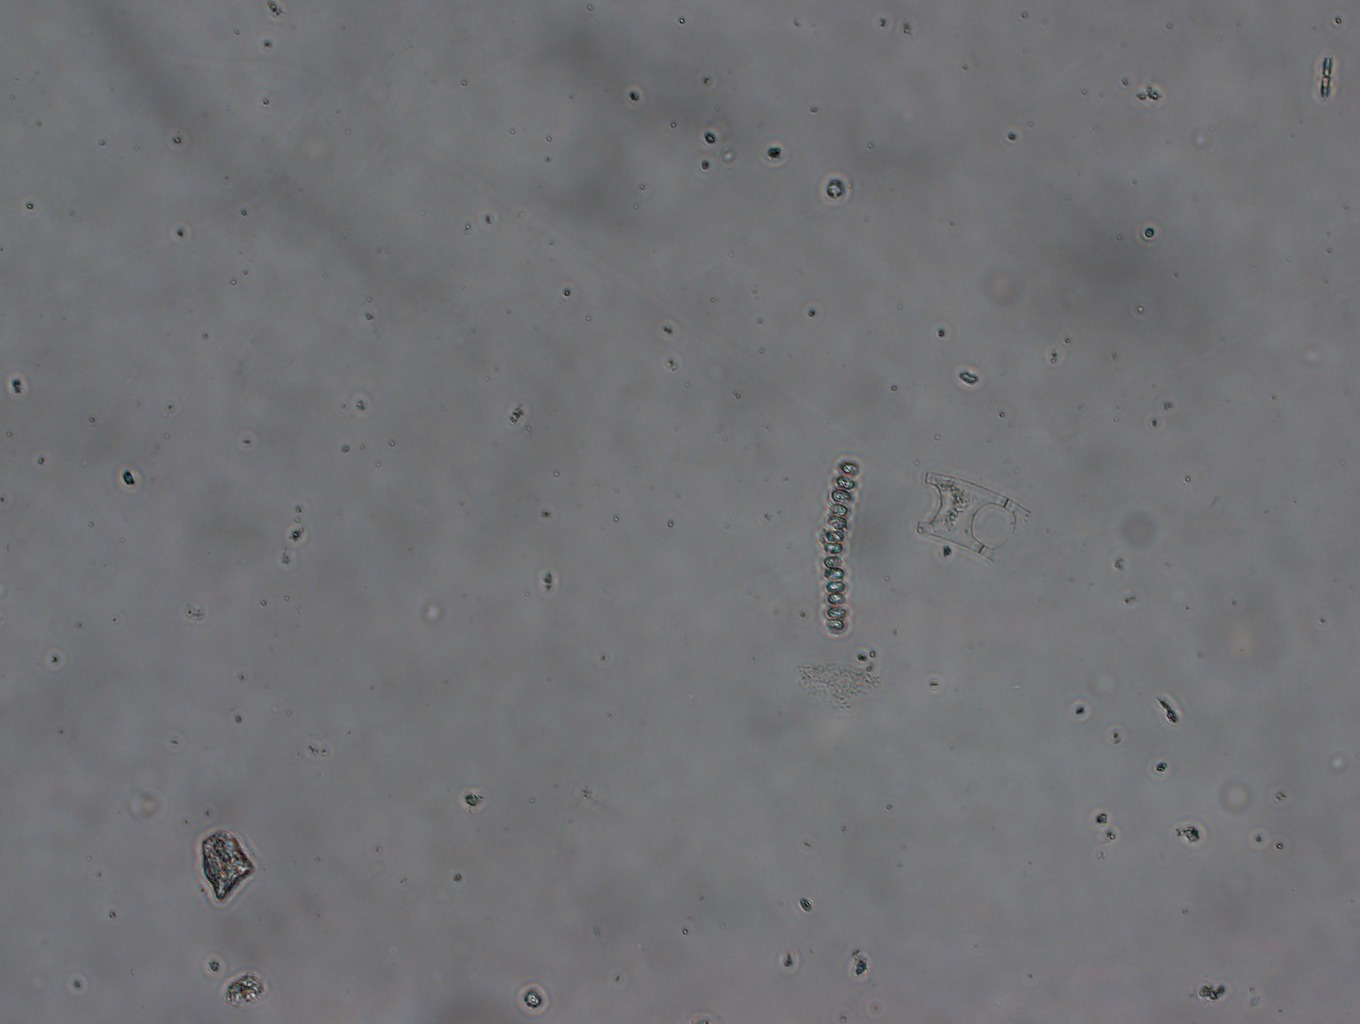eucampia: (911, 463, 1041, 577)
skeletonema: (808, 449, 867, 644)
